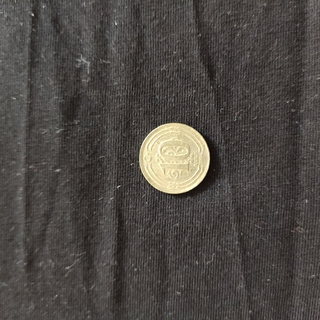10KURUS: (137, 121, 211, 196)
